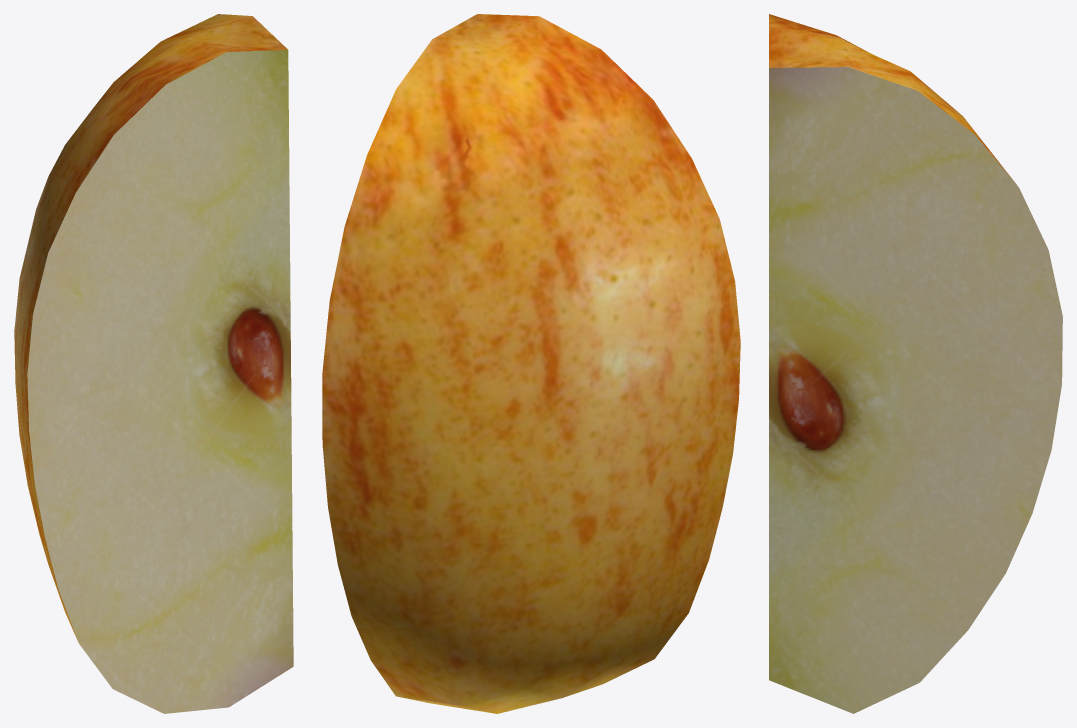
The model's file is Apple_Wedge.fbx.
The picture shows the model from 3 angles, left to right: view 1: azimuth 30°, elevation 25°; view 2: azimuth 150°, elevation 25°; view 3: azimuth 270°, elevation 25°; orthographic projection. The views are drawn at different scales.
Visible parts, largest first — view 1: Apple_Wedge; view 2: Apple_Wedge; view 3: Apple_Wedge.
Boxes of the visible parts, x1,y1,x2,y2 form: Apple_Wedge: [14, 14, 293, 713]; Apple_Wedge: [322, 14, 740, 713]; Apple_Wedge: [769, 14, 1062, 713].
Bounding box in the file's own units: 2776 × 6630 × 2690.
